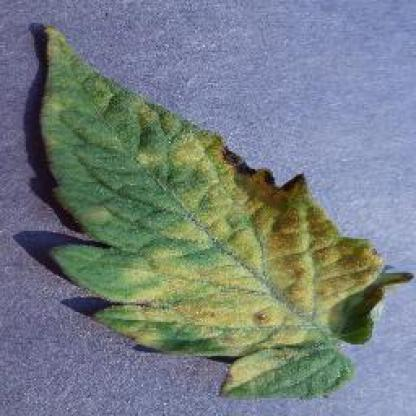bad leaf: (15, 8, 391, 416)
